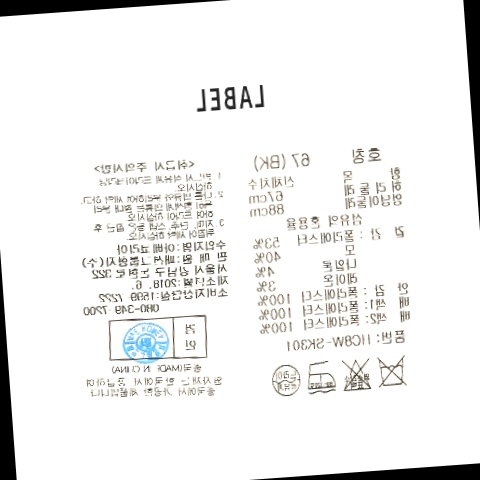DN_bleach: (337, 354, 371, 394)
DN_wash: (373, 351, 410, 391)
dry_clean_petrol_only: (267, 362, 303, 399)
iron_low: (304, 357, 337, 396)
